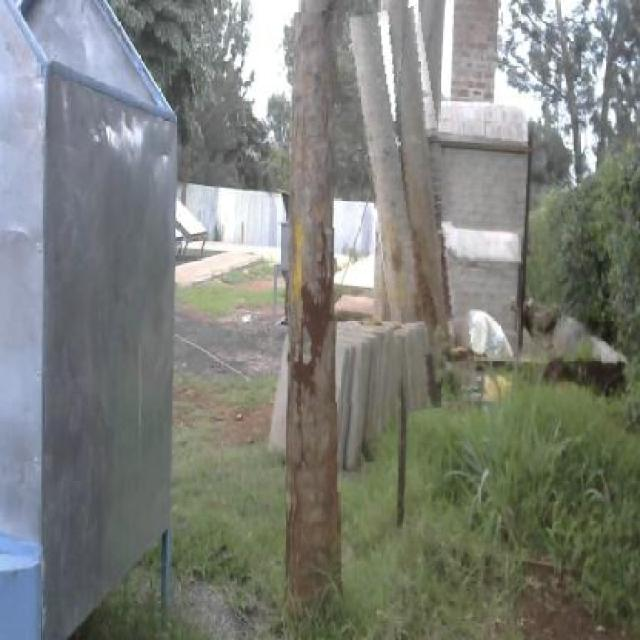tree trunk: (286, 11, 360, 618), (358, 8, 464, 410)
